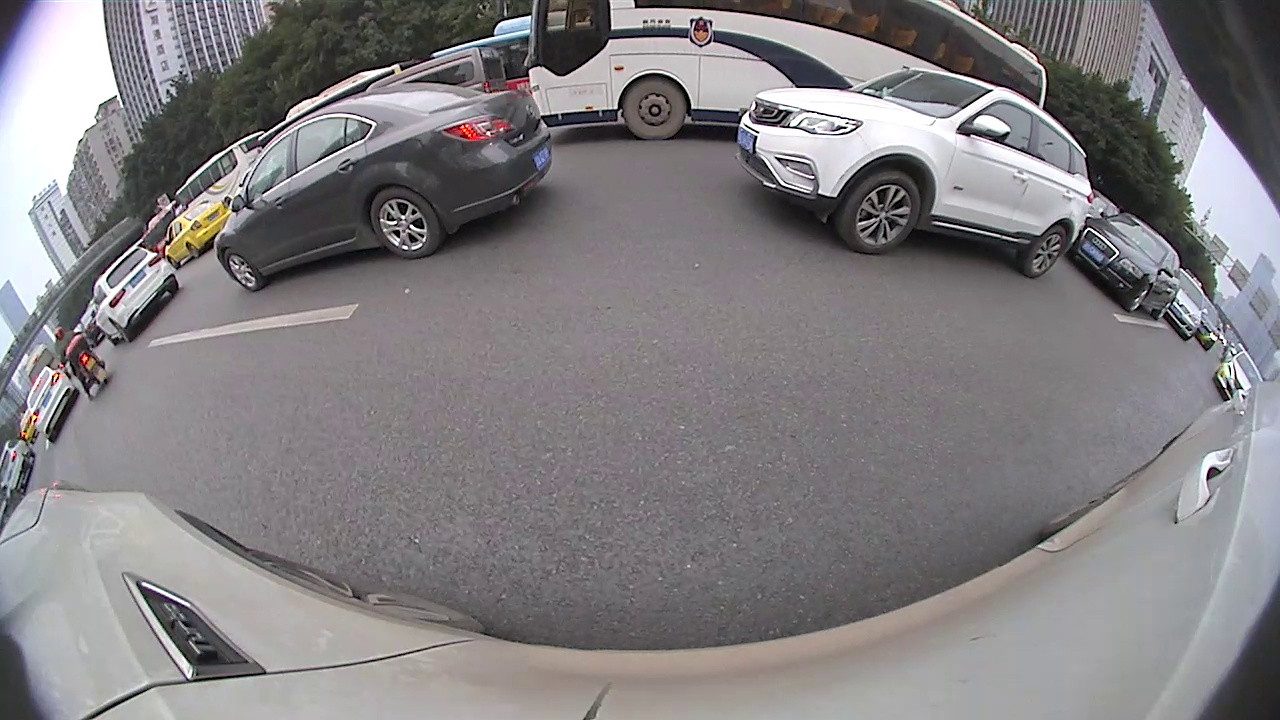bus: (527, 1, 1050, 143), (361, 49, 501, 121), (280, 62, 420, 121), (431, 14, 531, 92), (175, 130, 263, 214)
car: (733, 66, 1094, 278), (215, 82, 556, 294), (1074, 208, 1183, 326), (94, 241, 182, 348), (164, 195, 229, 267), (26, 368, 78, 440), (1213, 348, 1263, 416), (1164, 268, 1199, 343), (0, 437, 36, 492), (1199, 289, 1221, 356), (1086, 185, 1120, 224)
front: (833, 170, 919, 254), (620, 81, 685, 140), (222, 251, 261, 290), (1125, 286, 1152, 310)
rear: (371, 189, 441, 258), (1018, 227, 1065, 278), (1152, 299, 1175, 318), (185, 242, 199, 257)
rider: (53, 328, 104, 395)
